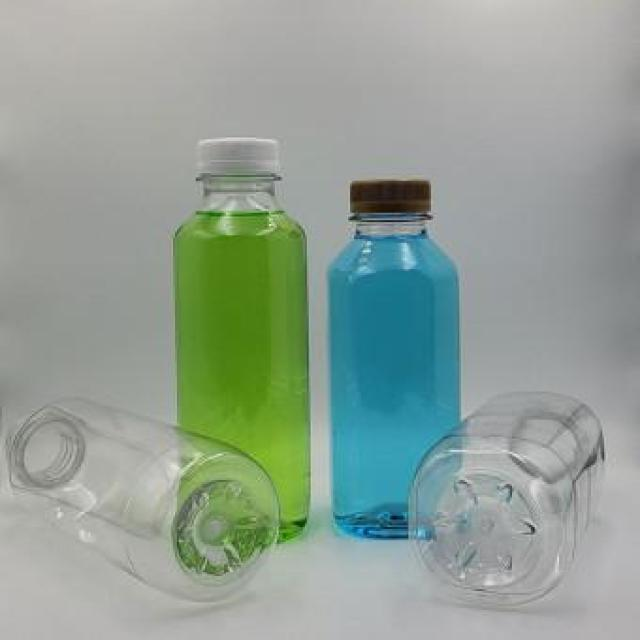bottle: (6, 399, 282, 606), (170, 136, 310, 538), (413, 367, 612, 614), (323, 179, 451, 542)
